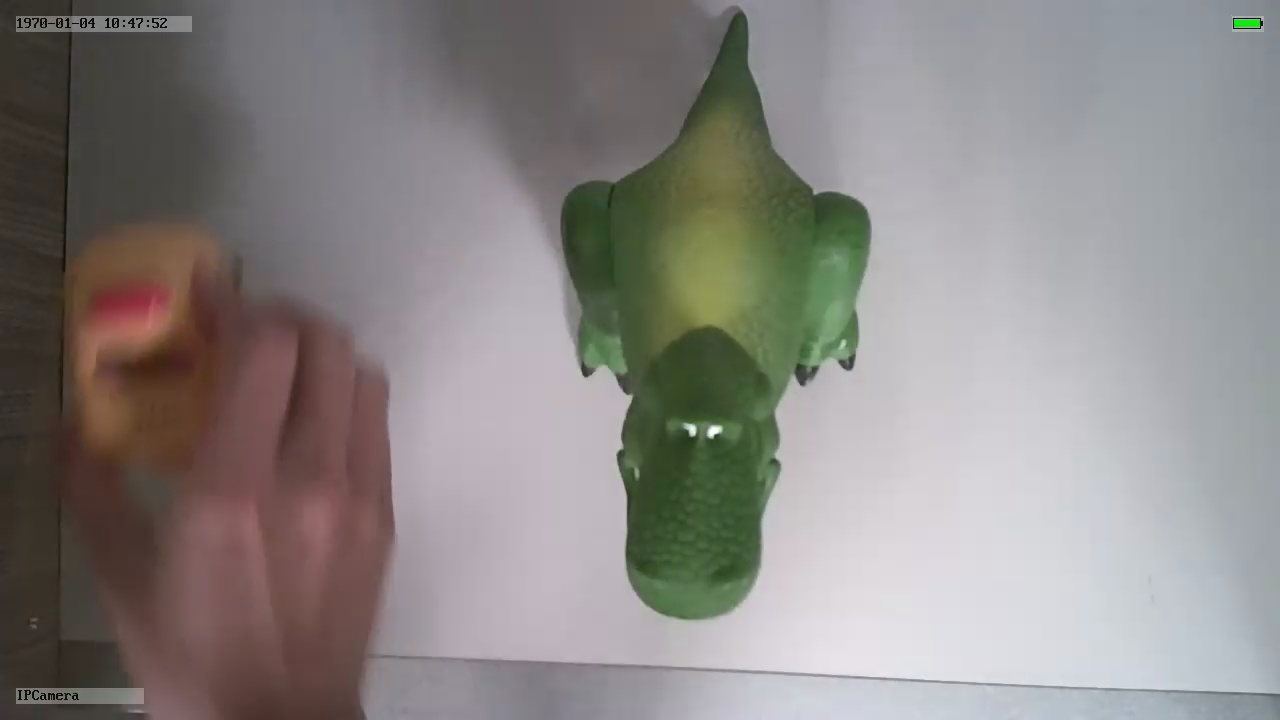rex: (558, 96, 873, 620)
